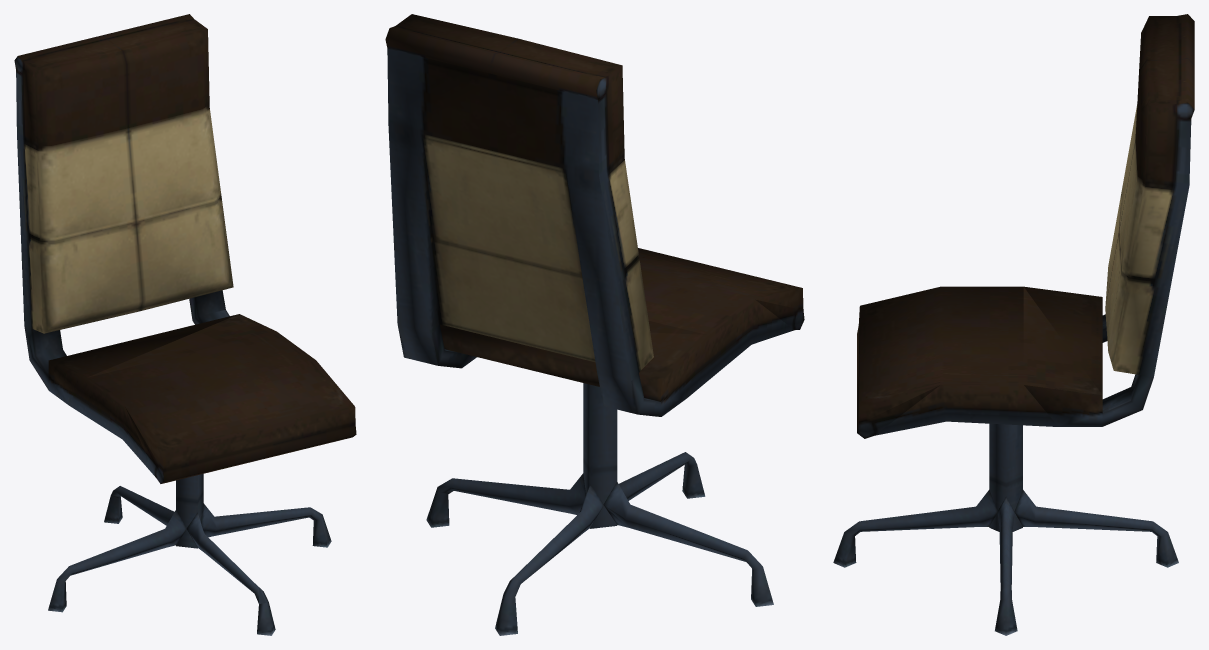
The model's file is ChairOffice01.FBX.
3 renders of one model, left to right at view 1: azimuth 30°, elevation 25°; view 2: azimuth 150°, elevation 25°; view 3: azimuth 270°, elevation 25°, orthographic. The views are drawn at different scales.
Parts seen in each view (by area): view 1: ChairOffice01; view 2: ChairOffice01; view 3: ChairOffice01.
Part boxes in pixels (<box>): ChairOffice01: <box>14,14,356,635</box>; ChairOffice01: <box>385,14,804,635</box>; ChairOffice01: <box>833,14,1194,635</box>.
Bounding box in the file's own units: 0.621 × 0.9999 × 0.6491.
